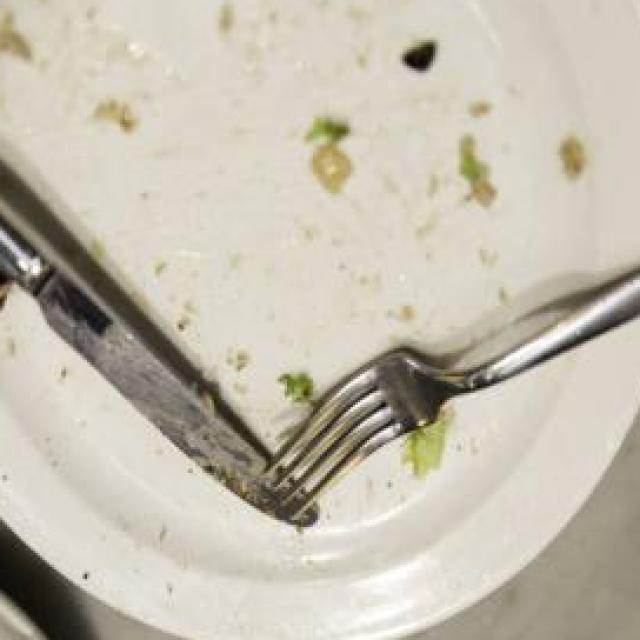knife: (0, 130, 323, 535)
